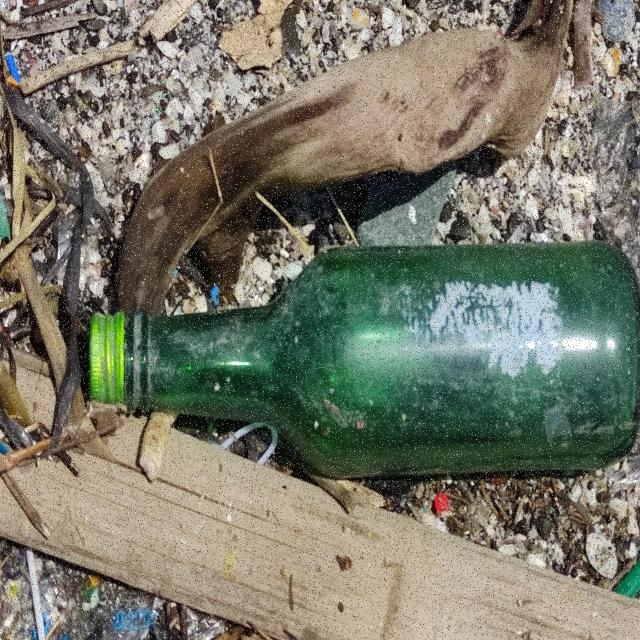glass_waste: (90, 241, 640, 481)
